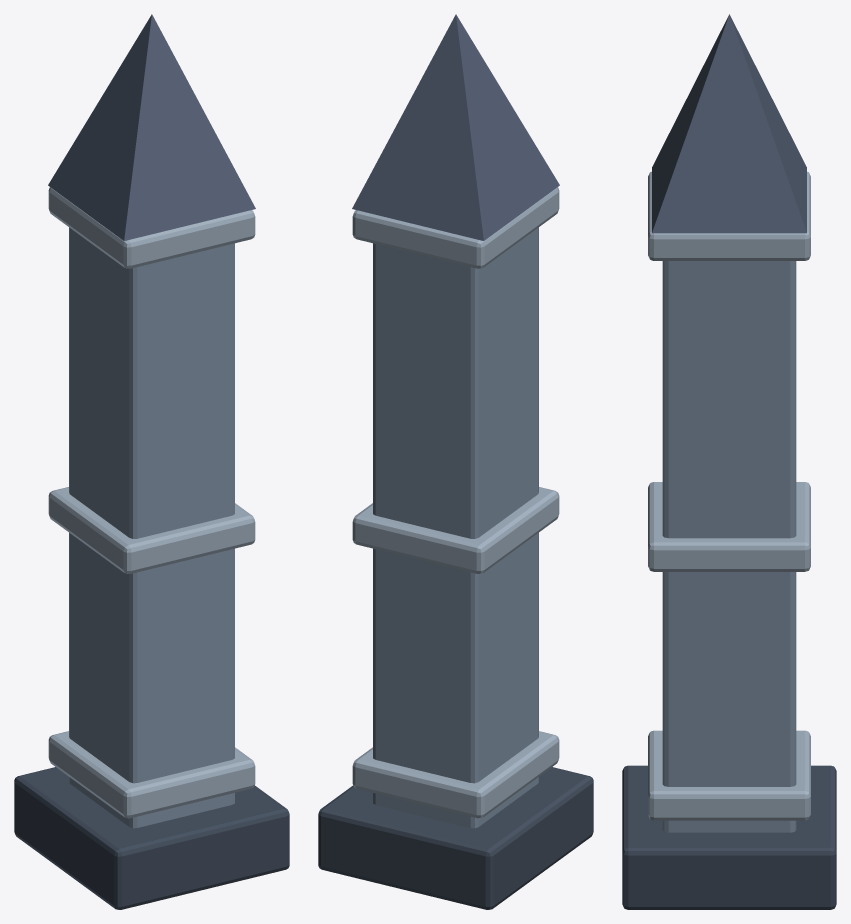
File: buttress.glb
3 renders of one model, left to right at view 1: azimuth 30°, elevation 25°; view 2: azimuth 150°, elevation 25°; view 3: azimuth 270°, elevation 25°, orthographic.
Visible parts, largest first — view 1: Buttress_Pier, Buttress_Top, Buttress_Foot, Buttress_Band, Buttress_Band.001, Buttress_Band.002; view 2: Buttress_Pier, Buttress_Top, Buttress_Foot, Buttress_Band, Buttress_Band.001, Buttress_Band.002; view 3: Buttress_Pier, Buttress_Top, Buttress_Foot, Buttress_Band, Buttress_Band.001, Buttress_Band.002.
Boxes of the visible parts, x1,y1,x2,y2 form: Buttress_Pier: [69, 227, 234, 828]; Buttress_Top: [48, 14, 255, 240]; Buttress_Foot: [14, 767, 289, 909]; Buttress_Band: [48, 731, 255, 818]; Buttress_Band.001: [48, 487, 255, 573]; Buttress_Band.002: [48, 187, 255, 268]; Buttress_Pier: [373, 227, 538, 828]; Buttress_Top: [352, 14, 559, 240]; Buttress_Foot: [318, 767, 593, 909]; Buttress_Band: [352, 731, 559, 818]; Buttress_Band.001: [352, 487, 559, 573]; Buttress_Band.002: [352, 187, 559, 268]; Buttress_Pier: [662, 261, 796, 832]; Buttress_Top: [652, 14, 806, 233]; Buttress_Foot: [622, 765, 836, 909]; Buttress_Band: [648, 730, 810, 820]; Buttress_Band.001: [648, 482, 810, 571]; Buttress_Band.002: [648, 171, 810, 260].
Bounding box in the file's own units: 1.2 × 5.5 × 1.25.
